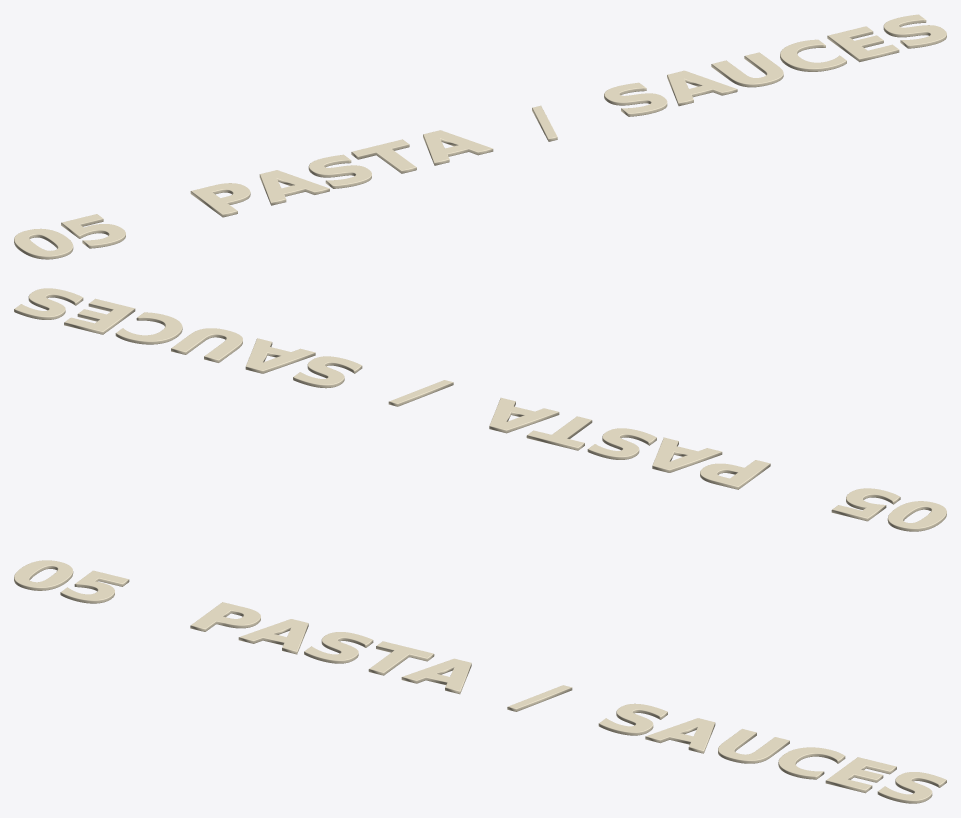
File: SM_EG_Aisle_designation_56a8020783.fbx
3 views of the same model, one above another, from view 1: azimuth 30°, elevation 25°; view 2: azimuth 150°, elevation 25°; view 3: azimuth 330°, elevation 25° (orthographic).
Visible parts, largest first — view 1: SM_EG_Aisle_designation_56a8020783; view 2: SM_EG_Aisle_designation_56a8020783; view 3: SM_EG_Aisle_designation_56a8020783.
Part boxes in pixels (x1,y1,x2,y2): SM_EG_Aisle_designation_56a8020783: [14, 14, 946, 259]; SM_EG_Aisle_designation_56a8020783: [14, 288, 946, 531]; SM_EG_Aisle_designation_56a8020783: [14, 560, 946, 803].
Size of the model in its own units: 123 by 8.54 by 0.44.
